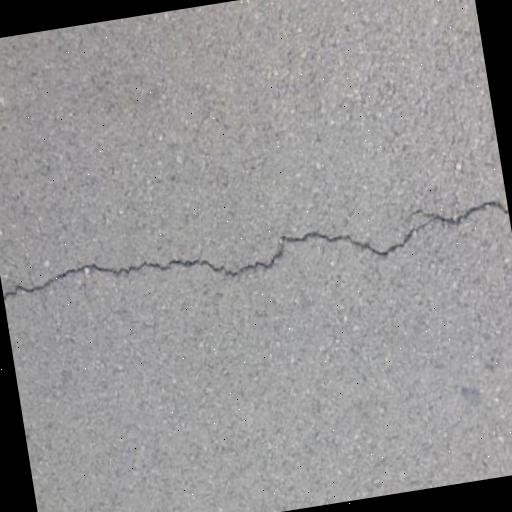spalling: (13, 189, 495, 319)
